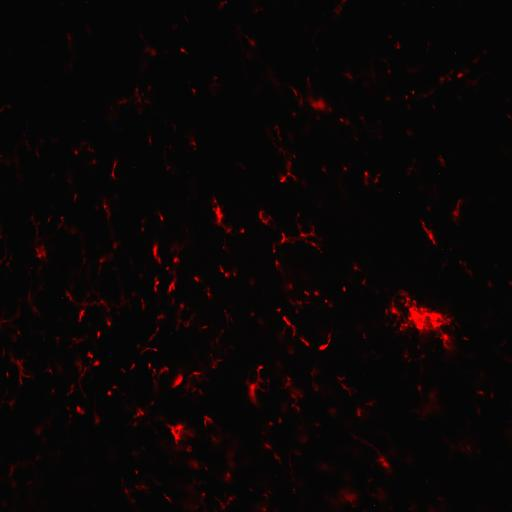microglia: (386, 290, 460, 356), (341, 46, 398, 93), (308, 1, 354, 52), (212, 194, 245, 252), (270, 125, 300, 184), (48, 26, 80, 79), (351, 434, 391, 475), (108, 85, 152, 121), (272, 222, 323, 252), (64, 289, 110, 322), (285, 285, 329, 313), (75, 351, 101, 398), (349, 259, 386, 291), (410, 384, 443, 419), (244, 365, 270, 408), (307, 77, 332, 116), (30, 216, 50, 264), (9, 351, 35, 387), (165, 422, 196, 452), (182, 478, 208, 512), (0, 307, 23, 343), (326, 487, 360, 511), (127, 400, 154, 428), (182, 369, 208, 398), (288, 449, 305, 490), (138, 31, 160, 62), (26, 283, 46, 317), (210, 328, 234, 356), (174, 302, 197, 330), (224, 438, 238, 484), (0, 221, 12, 274), (284, 377, 306, 404), (72, 141, 96, 164), (334, 375, 358, 396), (256, 207, 277, 230), (213, 492, 237, 512), (171, 240, 188, 268), (238, 26, 256, 51), (120, 478, 136, 505), (420, 219, 436, 245), (165, 267, 178, 297), (97, 253, 114, 275), (0, 148, 19, 167), (282, 314, 297, 338), (451, 198, 464, 225), (67, 334, 88, 350), (208, 74, 223, 96), (131, 292, 146, 313), (93, 388, 101, 427), (148, 360, 158, 391), (363, 170, 382, 186), (458, 259, 474, 277), (188, 458, 208, 472), (339, 118, 358, 132), (163, 144, 173, 170), (332, 1, 348, 17), (438, 68, 453, 85), (102, 197, 112, 222), (171, 370, 184, 389), (151, 242, 162, 264), (310, 368, 320, 392), (405, 158, 418, 176), (136, 344, 158, 354), (419, 87, 437, 99), (262, 418, 274, 436), (156, 365, 170, 380), (371, 485, 385, 500), (223, 309, 234, 328), (318, 334, 331, 350), (148, 325, 160, 342), (298, 424, 308, 444), (135, 482, 150, 495), (211, 356, 224, 370), (111, 159, 119, 180), (214, 206, 224, 222), (356, 408, 369, 420), (476, 390, 493, 398), (262, 440, 273, 452), (0, 103, 12, 114), (189, 137, 197, 152), (318, 460, 328, 472), (203, 415, 212, 428), (218, 0, 228, 11), (298, 90, 304, 108), (291, 86, 299, 99), (76, 405, 86, 415), (436, 155, 444, 167), (300, 336, 309, 346), (106, 315, 112, 329), (154, 278, 160, 292), (78, 309, 85, 321), (363, 172, 369, 185), (36, 146, 41, 158), (158, 212, 164, 221), (206, 288, 211, 298), (394, 41, 400, 49), (180, 48, 188, 54), (219, 266, 225, 273), (73, 193, 77, 202), (94, 360, 100, 366), (456, 72, 462, 78), (130, 363, 135, 369), (487, 281, 492, 287), (275, 259, 279, 266), (258, 365, 263, 370), (192, 88, 196, 94), (362, 278, 366, 284), (60, 216, 64, 221), (342, 286, 346, 291), (194, 276, 198, 281), (292, 112, 296, 117), (74, 150, 78, 154), (364, 172, 368, 176), (135, 469, 138, 474), (149, 137, 151, 144)
